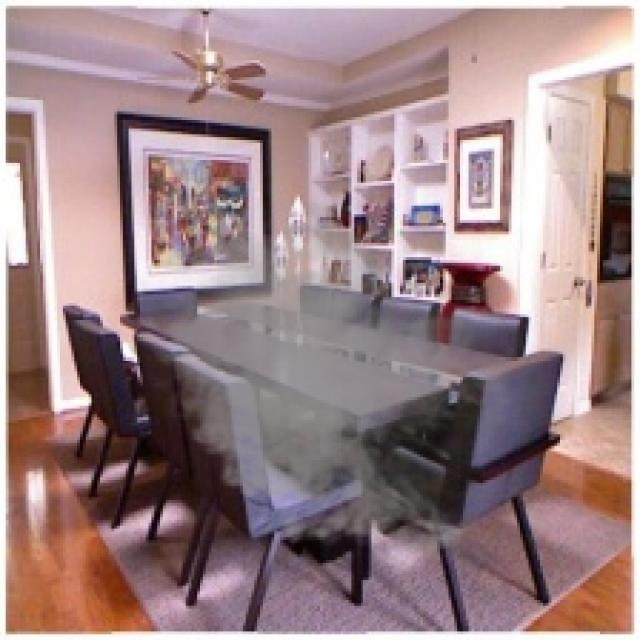smoke: (140, 197, 531, 566)
